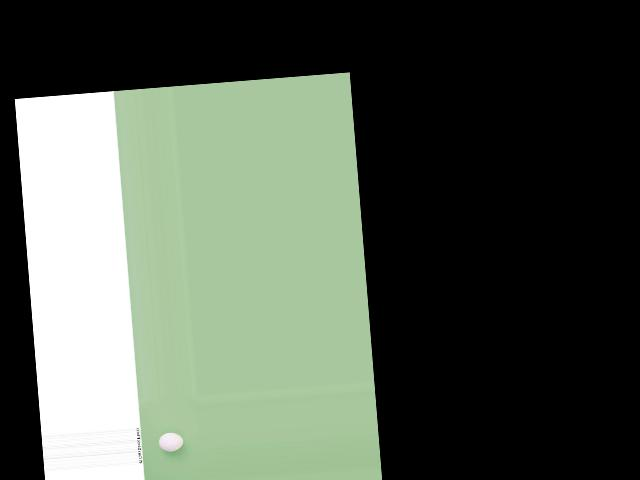egg: (158, 431, 183, 452)
